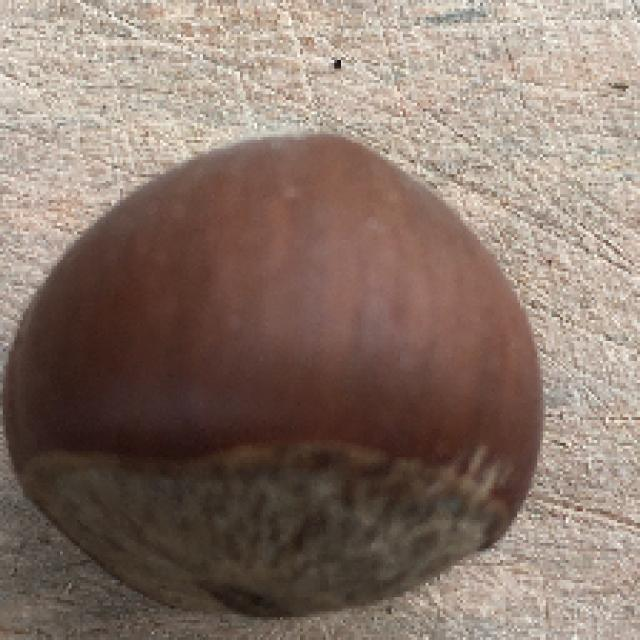qualityHazelnut: (0, 123, 584, 624)
